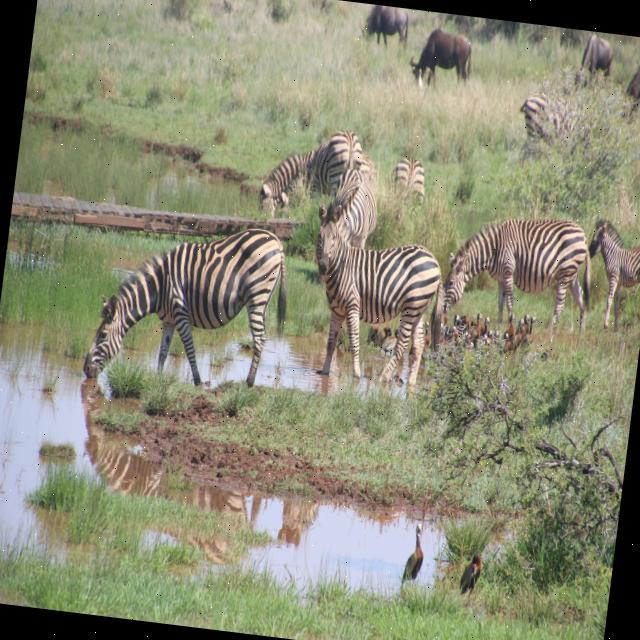Zebra: (82, 209, 298, 400), (298, 201, 456, 393), (438, 205, 600, 350), (257, 120, 366, 226), (577, 212, 640, 338), (326, 167, 382, 251)
